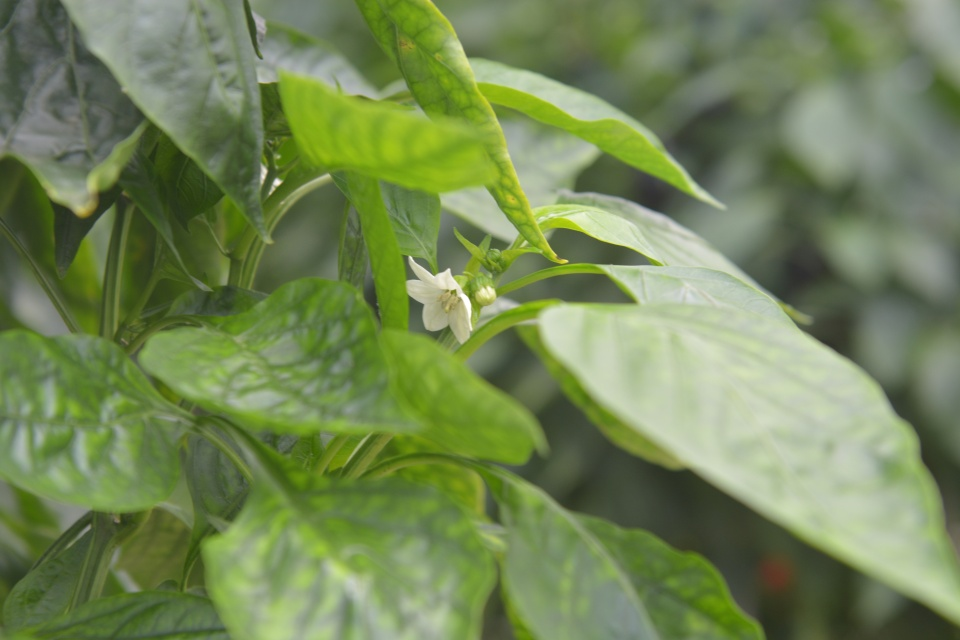flower: (403, 253, 474, 347)
